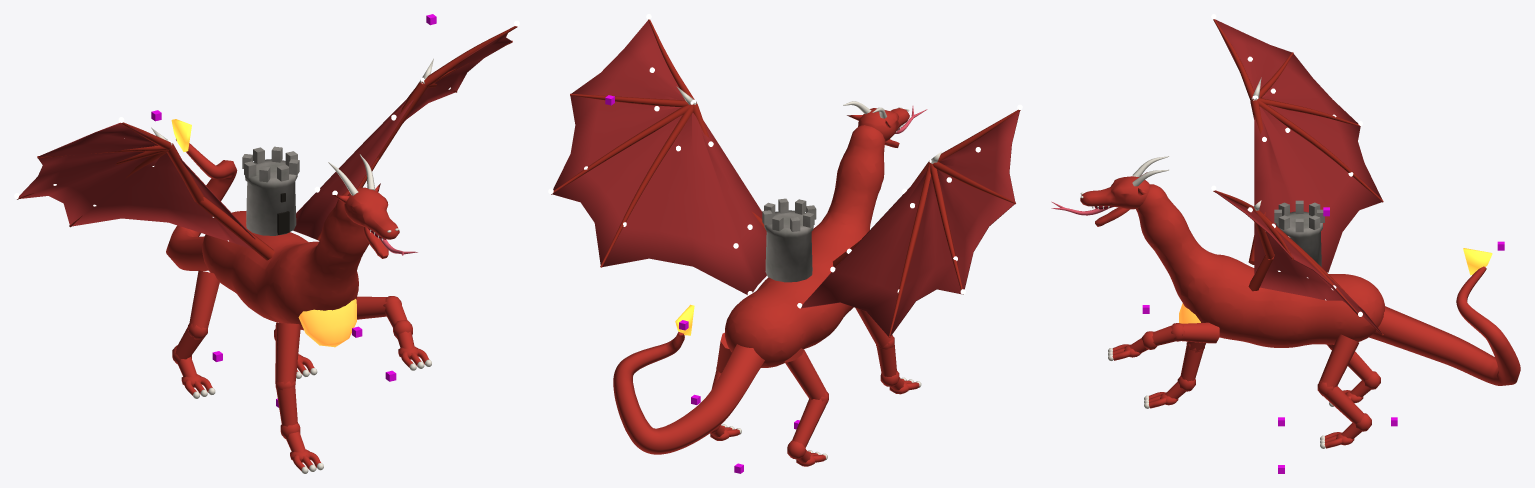
Rendered from 05_ddraig_drago_rosso.glb.
The picture shows the model from 3 angles, left to right: view 1: azimuth 30°, elevation 25°; view 2: azimuth 150°, elevation 25°; view 3: azimuth 270°, elevation 25°; orthographic projection. The views are drawn at different scales.
Parts seen in each view (by area): view 1: Ddraig__Scaglie_Rosse, Ddraig__Membrana_Ali, Ddraig__Ossa_Ali, Ddraig__Torre_Pietra, Ddraig__Petto_Rosso, Ddraig__Corna; view 2: Ddraig__Membrana_Ali, Ddraig__Scaglie_Rosse, Ddraig__Ossa_Ali, Ddraig__Torre_Pietra, Ddraig__Fratello_Bianco, Ddraig__Corna; view 3: Ddraig__Scaglie_Rosse, Ddraig__Membrana_Ali, Ddraig__Ossa_Ali, Ddraig__Torre_Pietra, Ddraig__Corna, Ddraig__Coda_Brace.
Boxes of the visible parts, x1,y1,x2,y2 form: Ddraig__Scaglie_Rosse: (166, 139, 429, 470); Ddraig__Membrana_Ali: (18, 33, 511, 249); Ddraig__Ossa_Ali: (17, 26, 517, 260); Ddraig__Torre_Pietra: (242, 146, 299, 235); Ddraig__Petto_Rosso: (298, 299, 356, 347); Ddraig__Corna: (151, 58, 433, 473); Ddraig__Membrana_Ali: (552, 20, 1019, 336); Ddraig__Scaglie_Rosse: (613, 108, 919, 466); Ddraig__Ossa_Ali: (551, 19, 1020, 337); Ddraig__Torre_Pietra: (762, 198, 816, 282); Ddraig__Fratello_Bianco: (548, 14, 1022, 308); Ddraig__Corna: (676, 86, 941, 460); Ddraig__Scaglie_Rosse: (1080, 172, 1520, 448); Ddraig__Membrana_Ali: (1214, 19, 1382, 334); Ddraig__Ossa_Ali: (1213, 19, 1383, 335); Ddraig__Torre_Pietra: (1274, 200, 1324, 266); Ddraig__Corna: (1080, 77, 1333, 448); Ddraig__Coda_Brace: (1463, 248, 1492, 275).
Size of the model in its own units: 6.49 by 4.77 by 6.24.
Materials: 14 (1 with a texture image).
